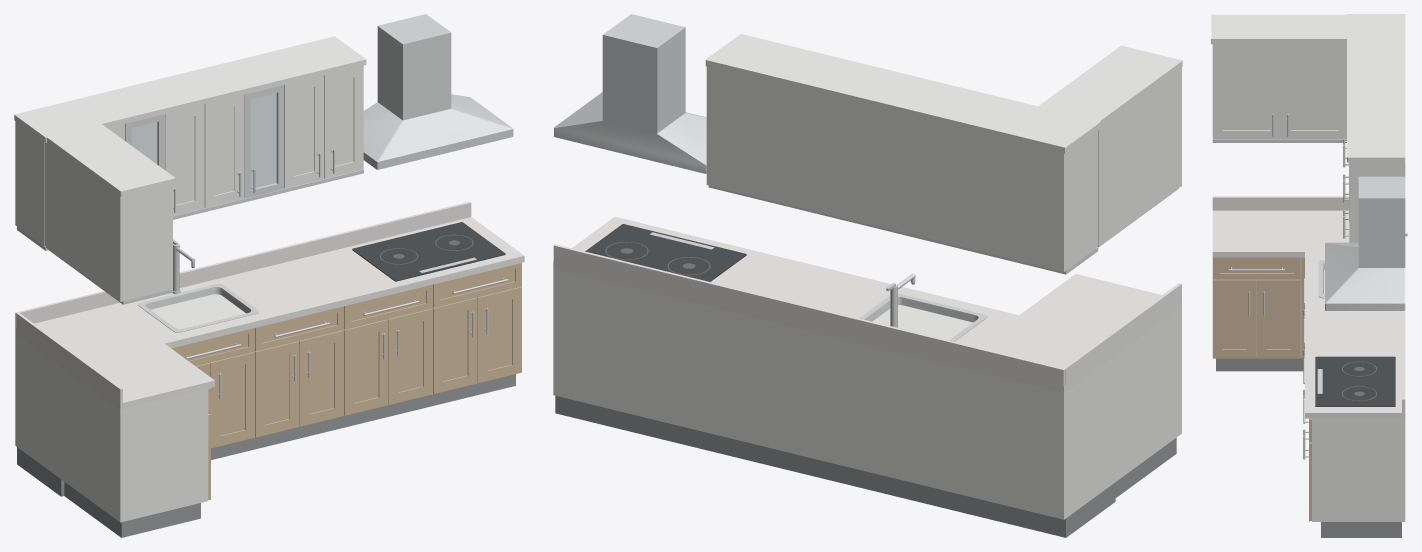
The picture shows the model from 3 angles, left to right: view 1: azimuth 30°, elevation 25°; view 2: azimuth 150°, elevation 25°; view 3: azimuth 270°, elevation 25°; orthographic projection. The views are drawn at different scales.
Visible parts, largest first — view 1: Tủ bếp chữ L Dài cạnh chính=3000; Dài cạnh phụ=1200; Sâu tủ ; view 2: Tủ bếp chữ L Dài cạnh chính=3000; Dài cạnh phụ=1200; Sâu tủ ; view 3: Tủ bếp chữ L Dài cạnh chính=3000; Dài cạnh phụ=1200; Sâu tủ .
Boxes of the visible parts, x1,y1,x2,y2 form: Tủ bếp chữ L Dài cạnh chính=3000; Dài cạnh phụ=1200; Sâu tủ : (14,14,524,537); Tủ bếp chữ L Dài cạnh chính=3000; Dài cạnh phụ=1200; Sâu tủ : (553,14,1182,537); Tủ bếp chữ L Dài cạnh chính=3000; Dài cạnh phụ=1200; Sâu tủ : (1211,14,1407,537).
Bounding box in the file's own units: 3.01 × 2.2 × 1.22.
